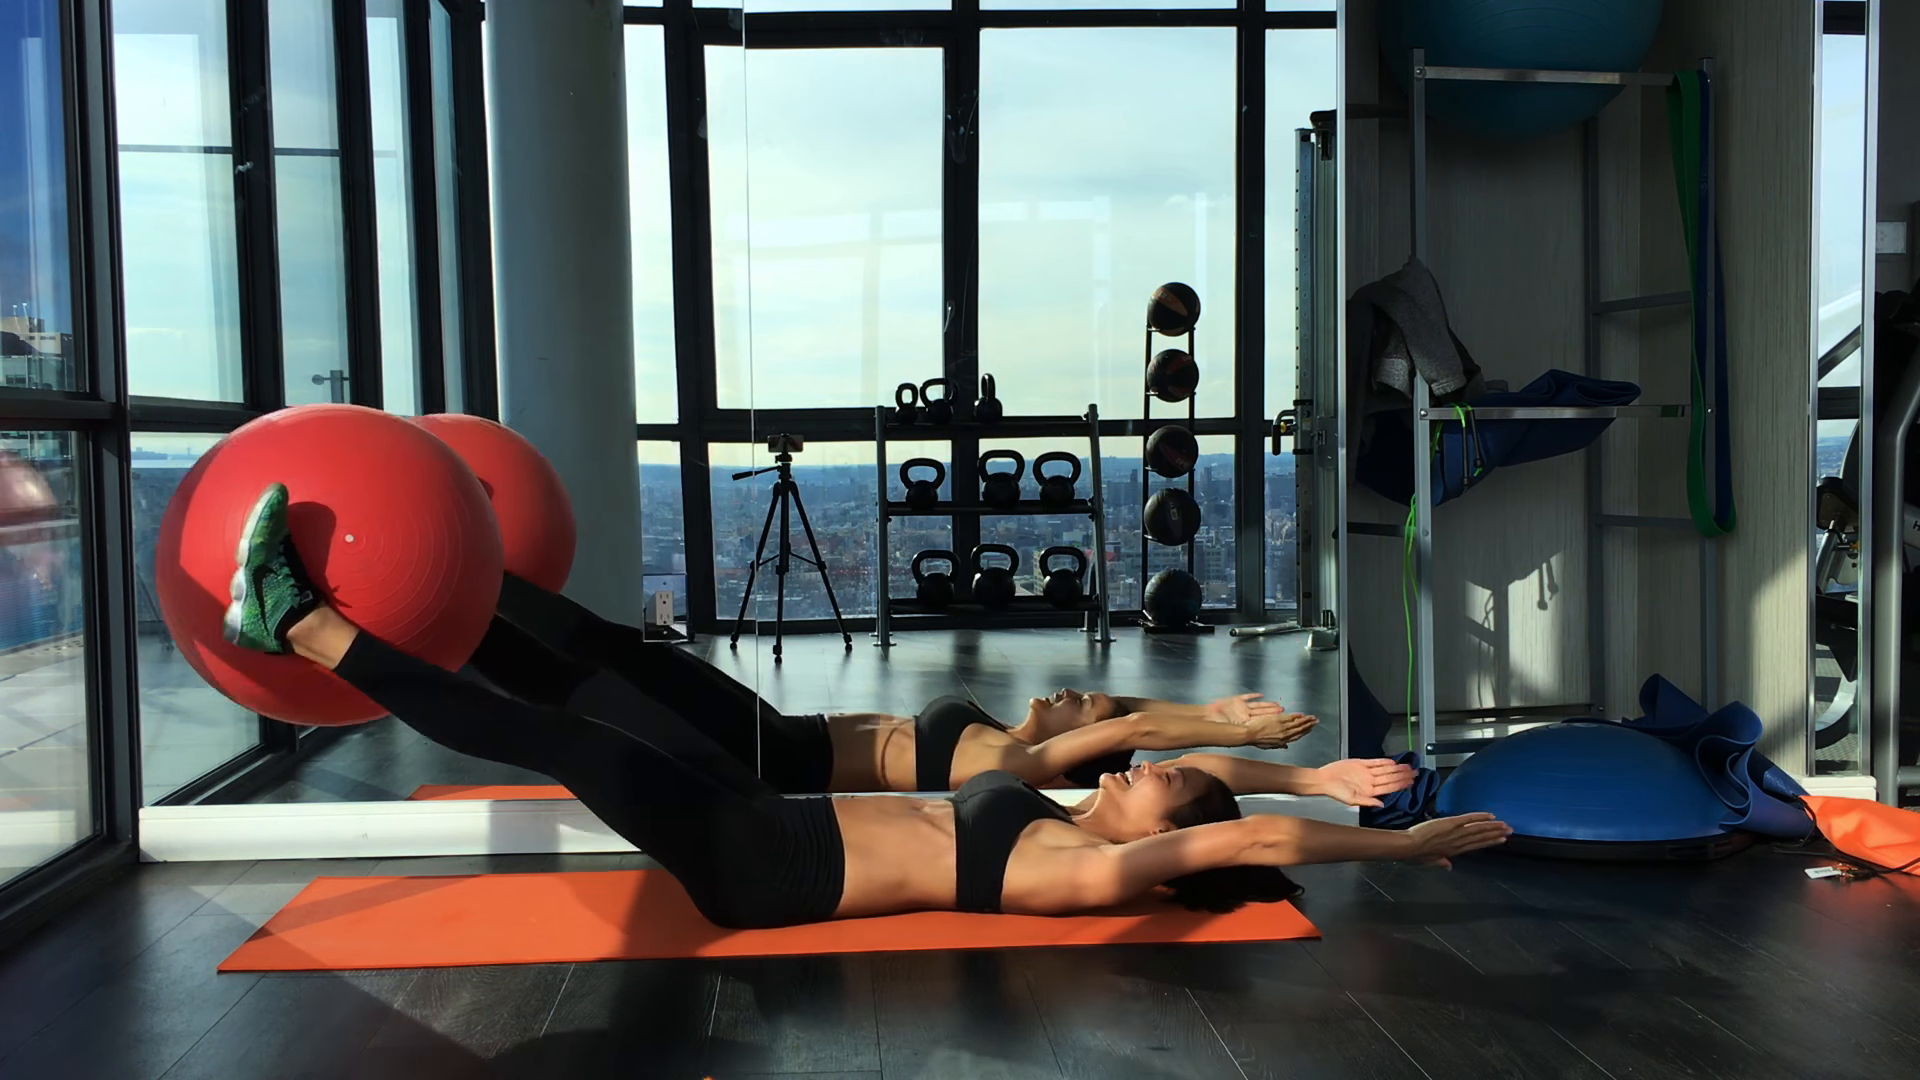yogaball: (152, 396, 520, 741)
